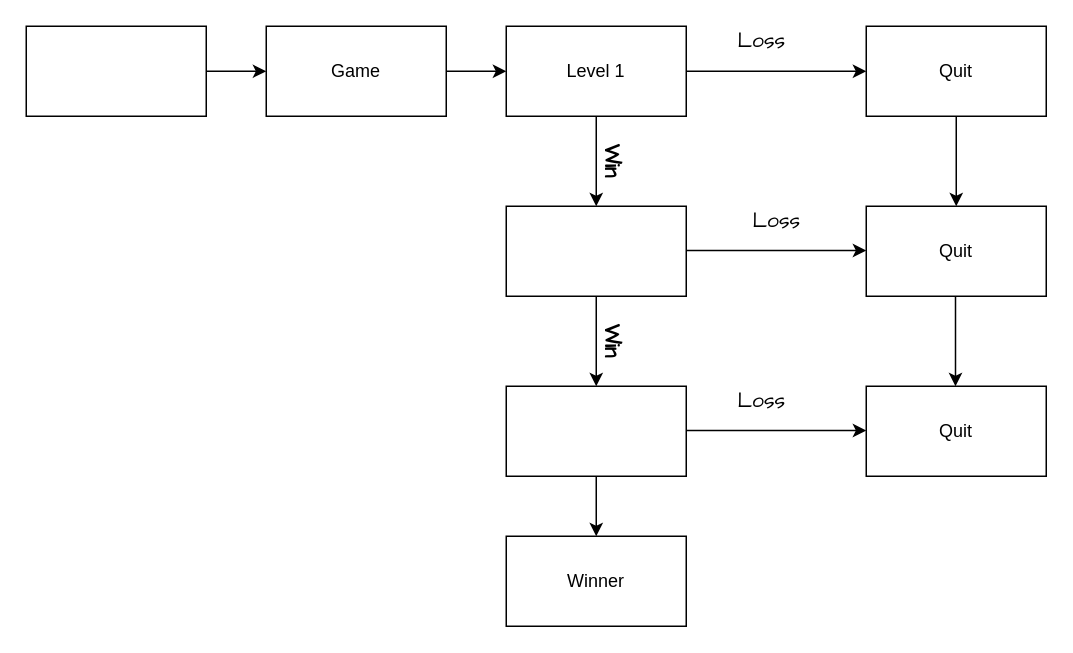
The diagram is 1073 pixels wide and 653 high, and some of its shapes have lost their labels. The shapes that lost their labels are listed below. From the top down, each one's box as (x1, y1, x2, y2) in pixels, then its label:
(25, 25, 206, 116): PC
(505, 205, 686, 296): Level 2
(505, 385, 686, 476): Level 3
